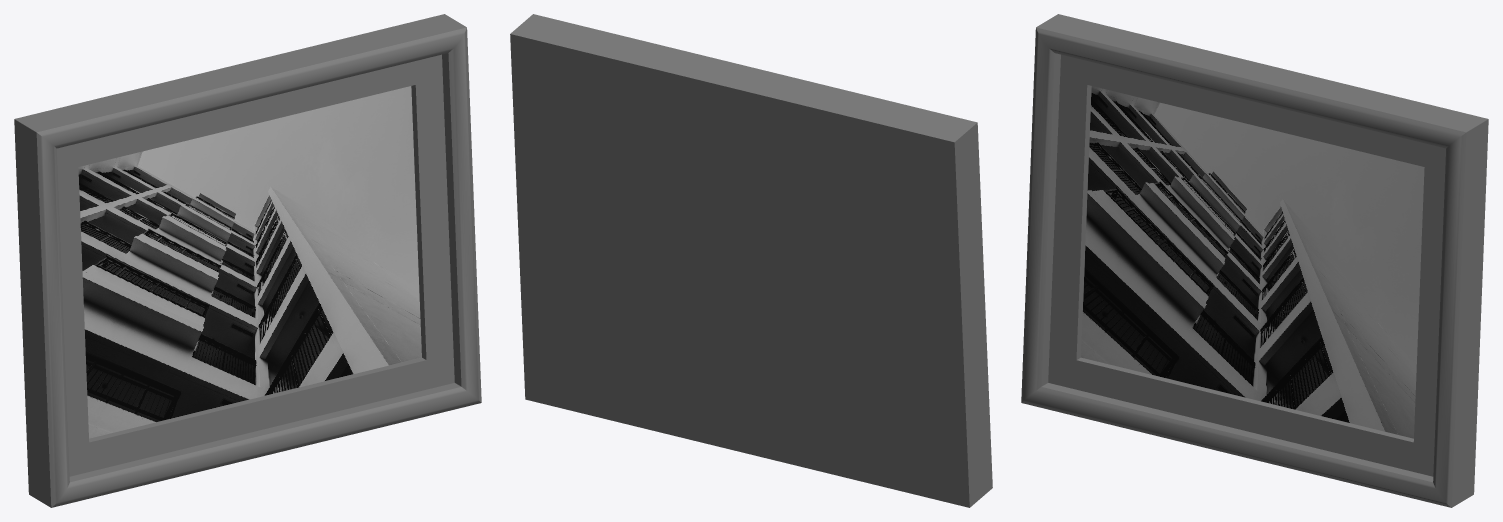
The model's file is photo-frame-3.obj.
The picture shows the model from 3 angles, left to right: view 1: azimuth 30°, elevation 25°; view 2: azimuth 150°, elevation 25°; view 3: azimuth 330°, elevation 25°; orthographic projection. The views are drawn at different scales.
Parts seen in each view (by area): view 1: Lifestyle_092; view 2: Lifestyle_092; view 3: Lifestyle_092.
Boxes of the visible parts, left/top/right/bottom form: Lifestyle_092: left=14, top=14, right=481, bottom=507; Lifestyle_092: left=510, top=14, right=992, bottom=507; Lifestyle_092: left=1021, top=14, right=1488, bottom=507.
Size of the model in its own units: 18.43 by 15.05 by 2.86.
Materials: 2 (1 with a texture image).
